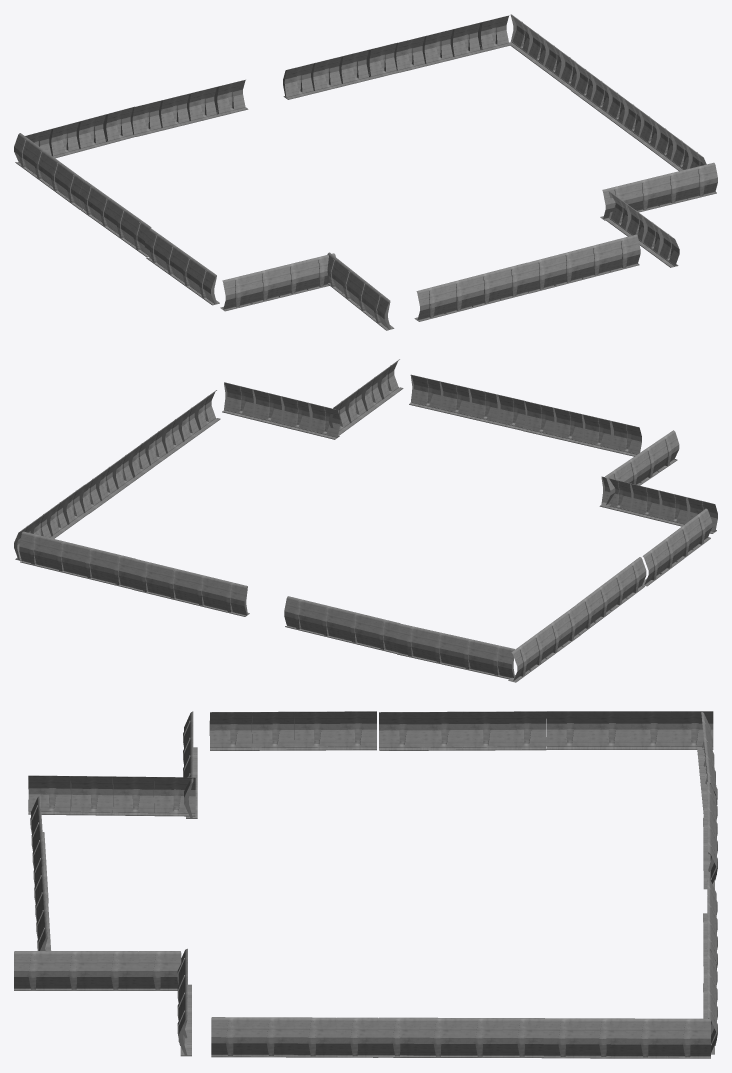
File: vallaMetalUnity.fbx
3 views of the same model, one above another, from view 1: azimuth 30°, elevation 25°; view 2: azimuth 150°, elevation 25°; view 3: azimuth 270°, elevation 25° (orthographic). The views are drawn at different scales.
Parts seen in each view (by area): view 1: vallaMetal1Kpeque.006; view 2: vallaMetal1Kpeque.006; view 3: vallaMetal1Kpeque.006.
Boxes of the visible parts, x1,y1,x2,y2 form: vallaMetal1Kpeque.006: (14, 14, 717, 330); vallaMetal1Kpeque.006: (14, 359, 717, 682); vallaMetal1Kpeque.006: (14, 711, 717, 1058).
Size of the model in its own units: 1090 by 62.31 by 1026.
Materials: 1 (1 with a texture image).
